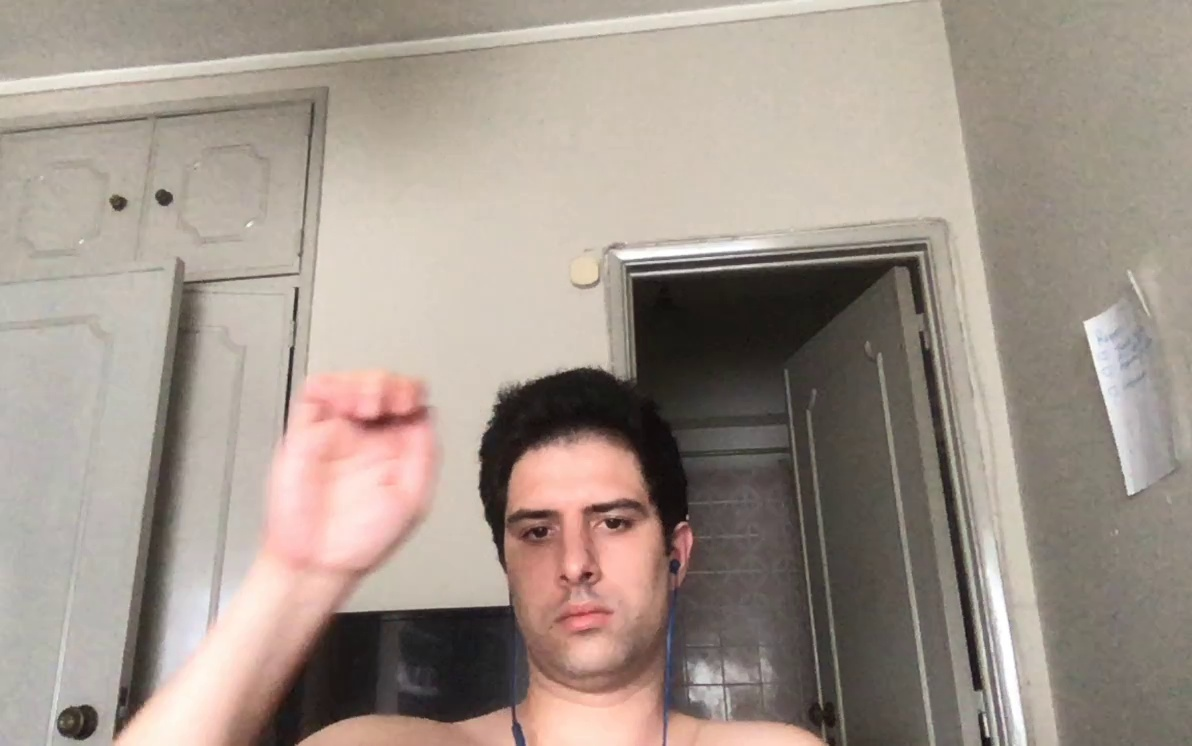c: (272, 362, 447, 583)
